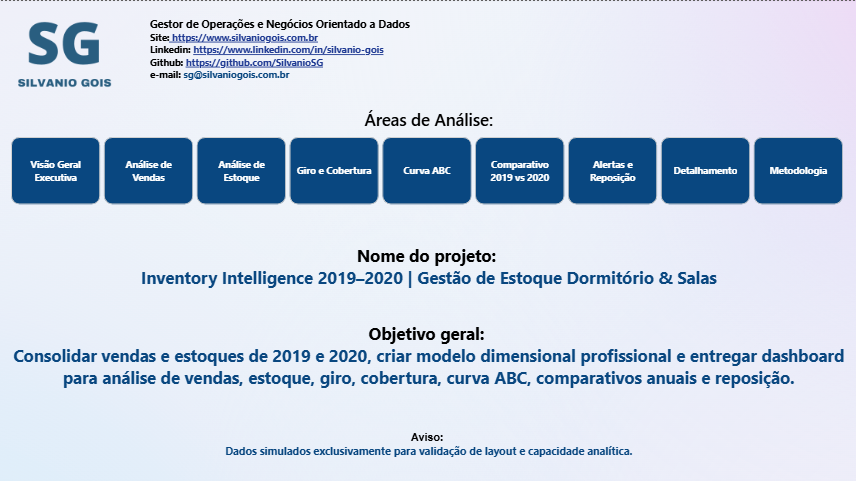

The page's visual inventory and layout, read from the dashboard file:
{"tool":"powerbi","page":{"name":"Inicio","canvas":[1920,1080],"ordinal":0},"visuals":[{"type":"image","box":[24,0,240,216],"z":0},{"type":"textbox","box":[336,0,720,216],"z":1000},{"type":"textbox","box":[24,528,1872,144],"z":2000},{"type":"textbox","box":[24,720,1872,216],"z":3000},{"type":"pageNavigator","title":"Áreas de Análise:","box":[24,240,1872,216],"z":4000},{"type":"textbox","box":[24,960,1872,96],"z":5000}]}

Visuals, with their boxes in screenshot pixels (x1, y1, x2, y2), scaled from the page's 1920x1080 canvas onto the 856x481 screenshot:
image: box(11, 0, 118, 96)
textbox: box(150, 0, 471, 96)
textbox: box(11, 235, 845, 299)
textbox: box(11, 321, 845, 417)
"Áreas de Análise:" pageNavigator: box(11, 107, 845, 203)
textbox: box(11, 428, 845, 470)
